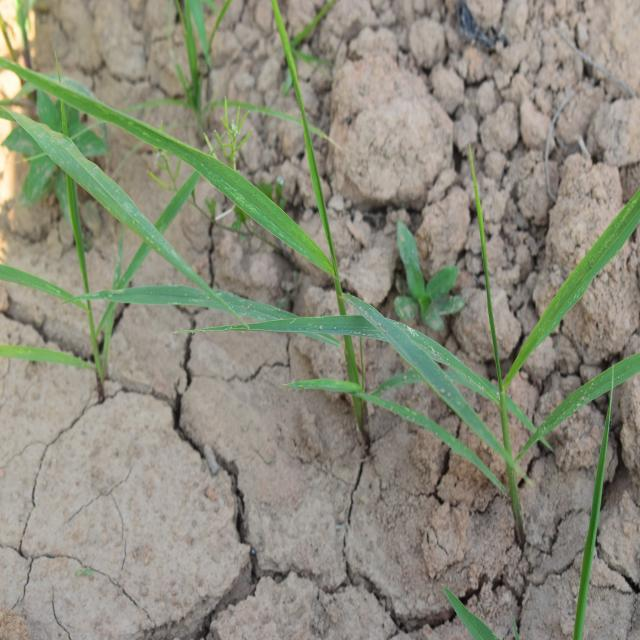green_foxtail: (193, 31, 426, 452), (434, 160, 620, 536), (8, 55, 180, 370)
